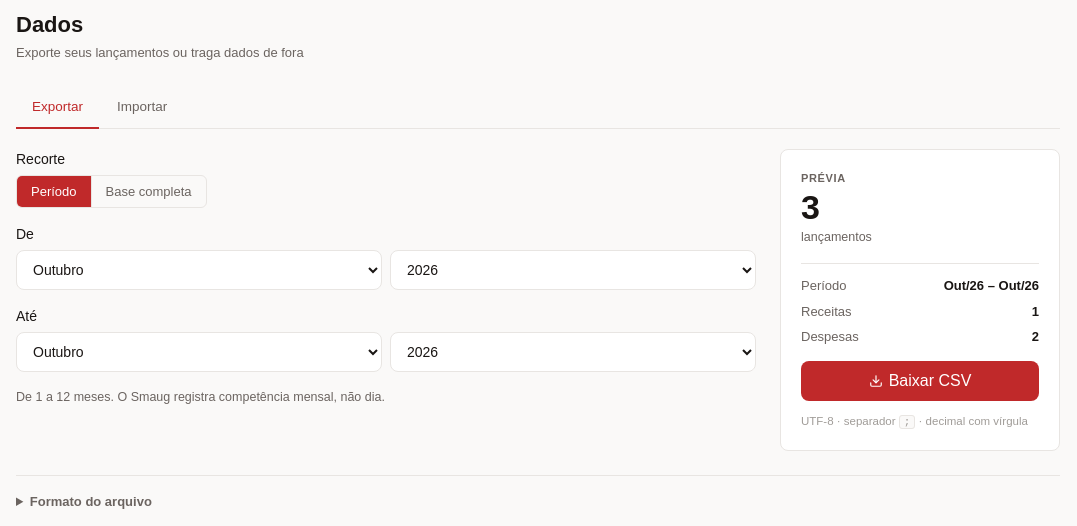
página Dados › troca para a aba de importação
Click the tab "Importar": (142, 108) [101, 86, 183, 129]
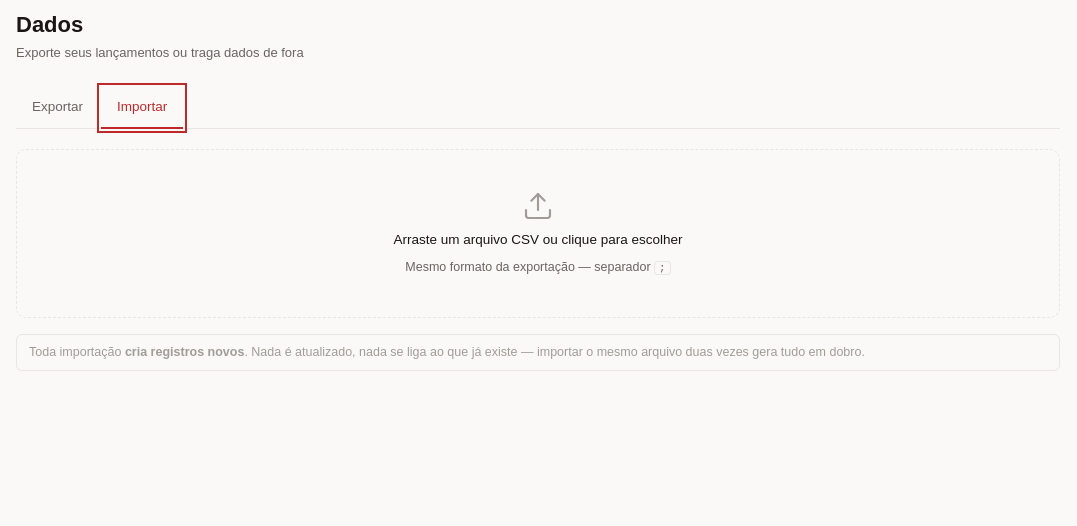
Expected: the text "Arraste um arquivo CSV ou clique para escolher" is shown, [394, 230, 682, 250]
